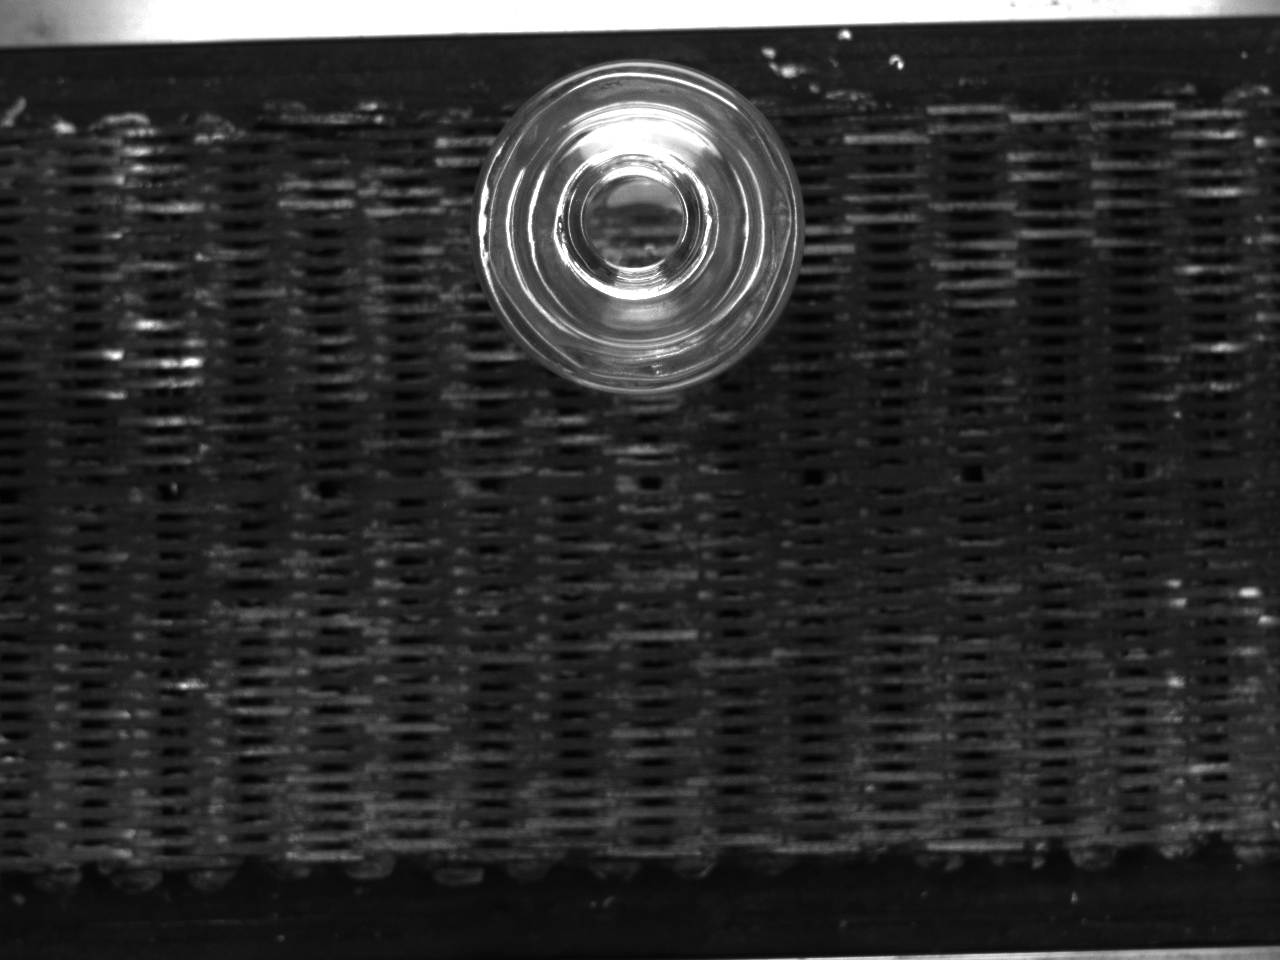bottleneck: (554, 146, 712, 301)
